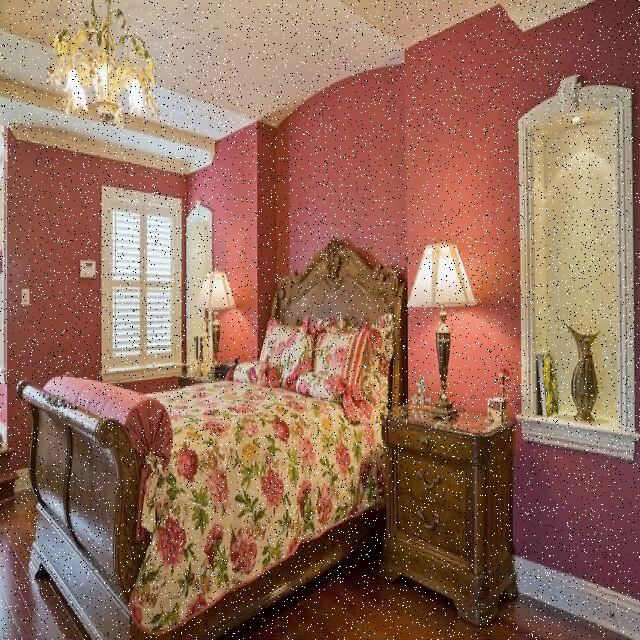bed: (50, 309, 398, 640)
